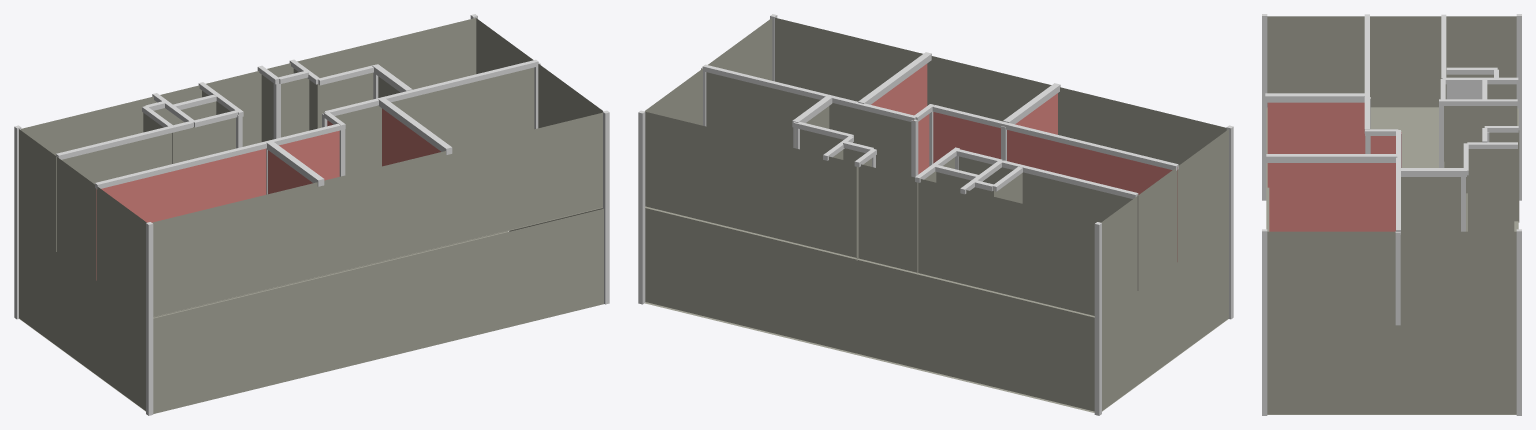
The picture shows the model from 3 angles, left to right: view 1: azimuth 30°, elevation 25°; view 2: azimuth 150°, elevation 25°; view 3: azimuth 270°, elevation 25°; orthographic projection. The views are drawn at different scales.
Parts seen in each view (by area): view 1: Plane.005, Plane.009, Plane.007, Plane.002, Plane.008, Plane.012, Plane.010, Plane.013, Plane.026, Cube.008, Plane.024, Cube.010 (+11 smaller); view 2: Plane.007, Plane.004, Plane.009, Plane.002, Plane.008, Plane.012, Plane.010, Plane.013, Plane.026, Cube.008, Cube.010, Plane.024 (+11 smaller); view 3: Plane.003, Plane.026, Plane.008, Plane.024, Plane.025, Plane.017, Plane, Plane.015, Plane.014, Cube.018, Cube.003, Cube.004 (+19 smaller).
Boxes of the visible parts, x1=… form: Plane.005: x1=153, y1=208, x2=603, y2=413; Plane.009: x1=152, y1=112, x2=602, y2=317; Plane.007: x1=21, y1=18, x2=476, y2=155; Plane.002: x1=19, y1=223, x2=145, y2=410; Plane.008: x1=19, y1=129, x2=146, y2=316; Plane.012: x1=335, y1=67, x2=534, y2=175; Plane.010: x1=96, y1=130, x2=339, y2=280; Plane.013: x1=56, y1=117, x2=235, y2=251; Plane.026: x1=476, y1=18, x2=602, y2=128; Cube.008: x1=95, y1=123, x2=340, y2=189; Plane.024: x1=382, y1=108, x2=440, y2=166; Cube.010: x1=324, y1=59, x2=538, y2=115; Plane.007: x1=645, y1=112, x2=1096, y2=315; Plane.004: x1=645, y1=208, x2=1094, y2=411; Plane.009: x1=775, y1=17, x2=1226, y2=165; Plane.002: x1=1102, y1=223, x2=1228, y2=410; Plane.008: x1=1101, y1=129, x2=1228, y2=316; Plane.012: x1=706, y1=72, x2=911, y2=176; Plane.010: x1=933, y1=112, x2=1177, y2=261; Plane.013: x1=959, y1=156, x2=1138, y2=290; Plane.026: x1=645, y1=18, x2=772, y2=125; Cube.008: x1=932, y1=105, x2=1178, y2=170; Cube.010: x1=702, y1=64, x2=916, y2=121; Plane.024: x1=871, y1=64, x2=927, y2=115; Plane.003: x1=1267, y1=322, x2=1516, y2=414; Plane.026: x1=1267, y1=231, x2=1516, y2=322; Plane.008: x1=1267, y1=16, x2=1516, y2=107; Plane.024: x1=1269, y1=163, x2=1395, y2=231; Plane.025: x1=1267, y1=102, x2=1365, y2=187; Plane.017: x1=1467, y1=149, x2=1514, y2=231; Plane: x1=1266, y1=107, x2=1518, y2=231; Plane.015: x1=1401, y1=177, x2=1466, y2=231; Plane.014: x1=1444, y1=106, x2=1517, y2=193; Cube.018: x1=1266, y1=154, x2=1397, y2=162; Cube.003: x1=1262, y1=229, x2=1267, y2=415; Cube.004: x1=1516, y1=229, x2=1521, y2=415.
Size of the model in its own units: 10.1 by 4.05 by 5.1.
